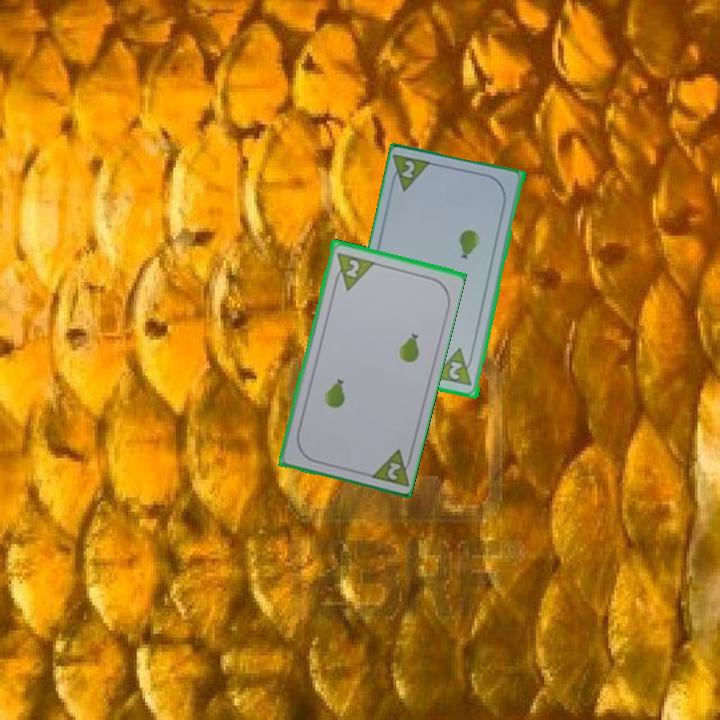2p: (365, 445, 416, 489), (329, 248, 376, 293), (432, 345, 477, 389), (399, 157, 418, 182)
